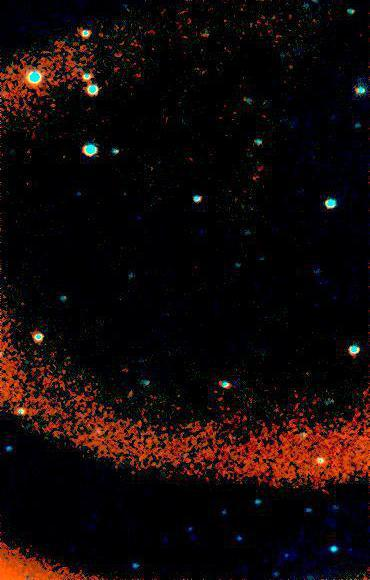star: (115, 386, 145, 416)
